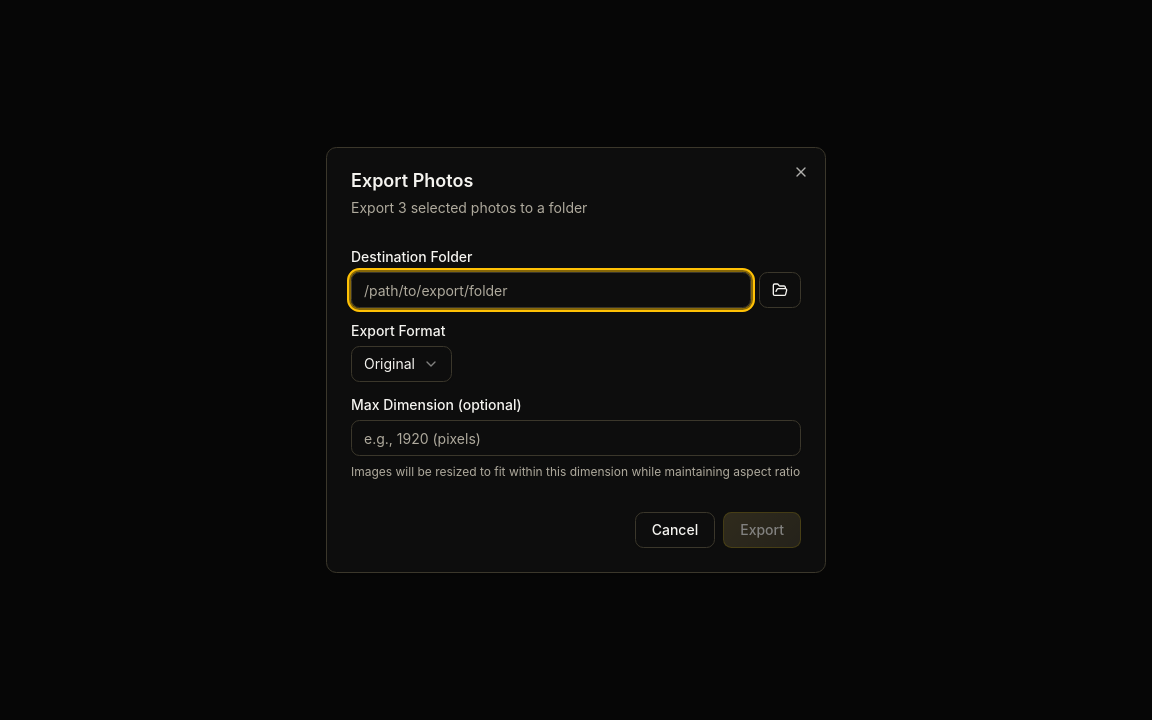
Test: BatchExportDialog Component › Export Operation › enables Export button when destination is set
Type "/export/path" into the field labelled "Destination Folder".
click(551, 290); type("/export/path")  # box [351,272,751,308]
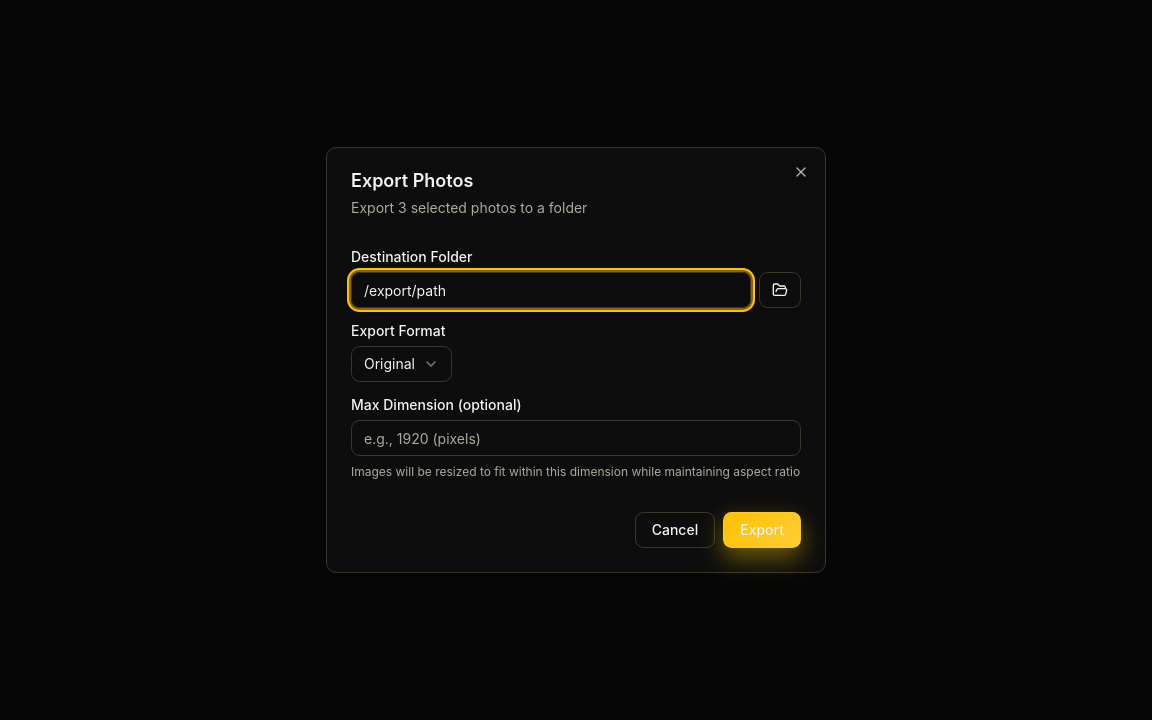
expect the button "Export" is enabled: met, box [723,512,801,548]
